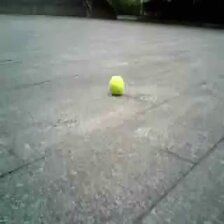tennis: (109, 76, 124, 95)
